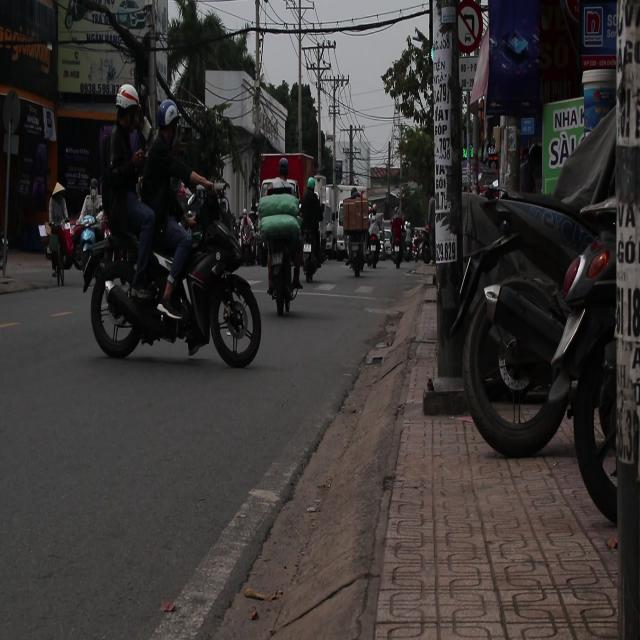motorbike: (83, 175, 259, 369), (258, 179, 306, 325), (58, 202, 118, 281), (296, 211, 324, 308), (380, 215, 417, 280), (348, 212, 373, 299)
